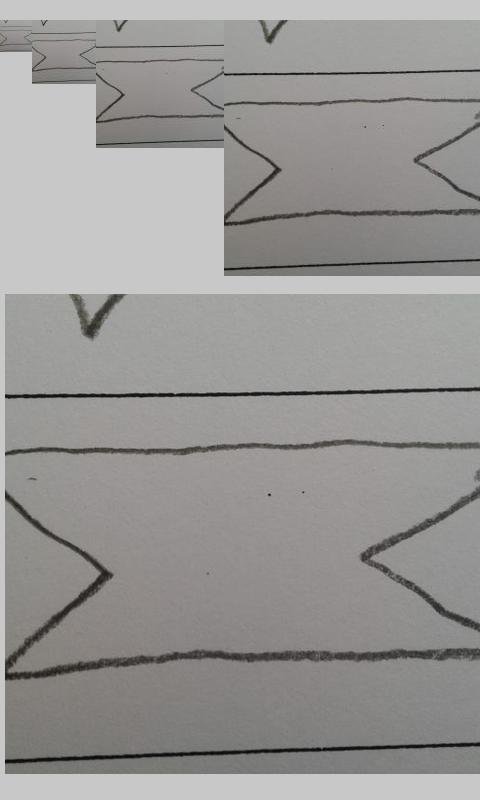edit_text: (4, 437, 479, 680), (225, 97, 480, 227), (97, 59, 221, 123), (33, 38, 94, 72), (1, 29, 30, 46)
